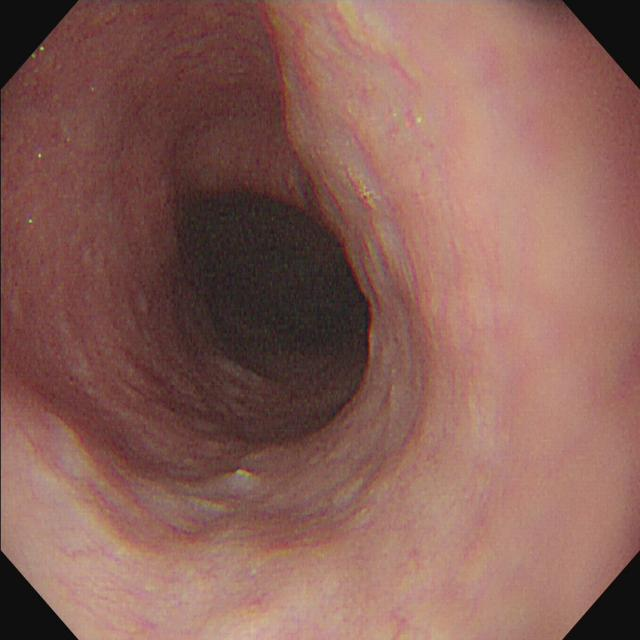E: (182, 198, 371, 348)
